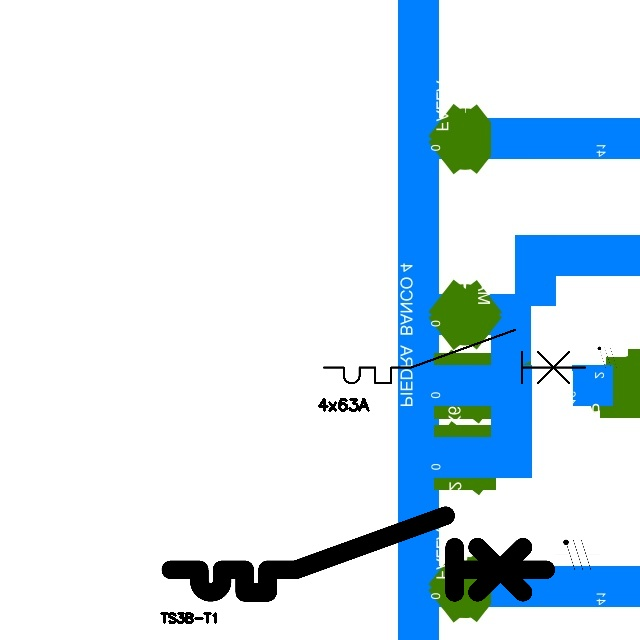interruptor_termomagnetico: (161, 506, 555, 602), (317, 323, 592, 390)
